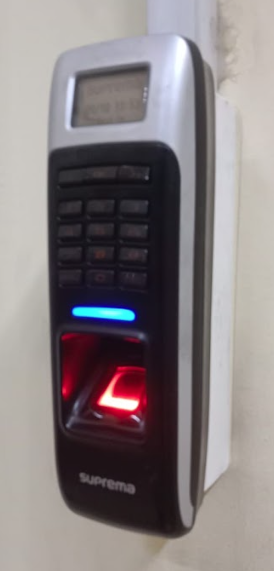Suprema: (42, 28, 250, 541)
